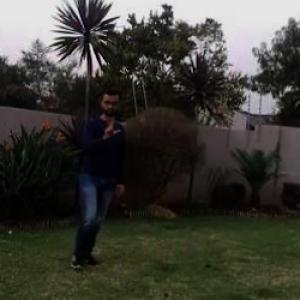land_hand: (96, 113, 125, 144)
